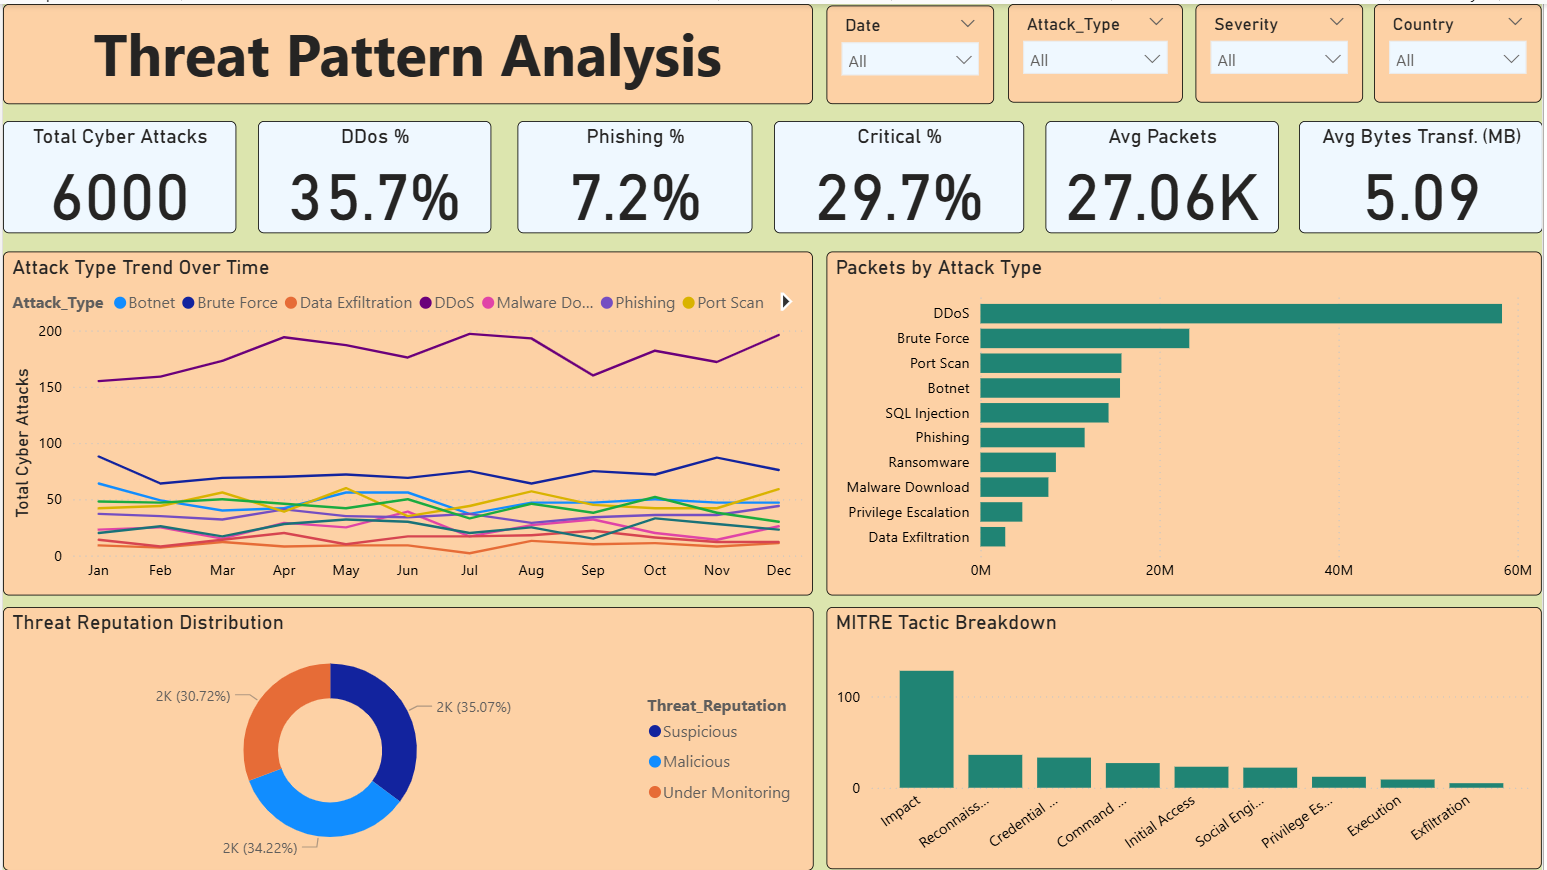

What the dashboard file says about the page in this screenshot:
{"tool":"powerbi","page":{"name":"Threat Pattern Analysis","canvas":[1280,720],"ordinal":2},"visuals":[{"type":"textbox","box":[0,0,673.5,83.3],"z":0},{"type":"slicer","fields":{"Values":["Date_Table.Date"]},"box":[685,1.4,139.3,81.9],"z":1000},{"type":"slicer","fields":{"Values":["Attack_Type.Attack_Type"]},"box":[835.8,0,145,81.9],"z":2000},{"type":"slicer","fields":{"Values":["Severity.Severity_Level"]},"box":[990.9,0,139.3,81.9],"z":3000},{"type":"slicer","fields":{"Values":["Country.Country"]},"box":[1140.2,0,139.3,81.9],"z":4000},{"type":"card","title":"Total Cyber Attacks","fields":{"Values":["Security_Events.Total Cyber Attacks"]},"box":[0,97.7,193.9,93.3],"z":5000},{"type":"card","title":"DDos %","fields":{"Values":["Security_Events.DDoS %"]},"box":[212.5,97.7,193.9,93.3],"z":6000},{"type":"card","title":"Phishing %","fields":{"Values":["Security_Events.Phishing %"]},"box":[427.9,97.7,195.3,93.3],"z":7000},{"type":"card","title":"Critical %","fields":{"Values":["Security_Events.Critical %"]},"box":[640.5,97.7,208.2,93.3],"z":8000},{"type":"card","title":"Avg Packets","fields":{"Values":["Security_Events.Avg Packets"]},"box":[867.4,97.7,193.9,93.3],"z":9000},{"type":"card","title":"Avg Bytes Transf.  (MB)","fields":{"Values":["Security_Events.Avg Bytes (MB)"]},"box":[1077,97.7,202.5,93.3],"z":10000},{"type":"lineChart","title":"Attack Type Trend Over Time","fields":{"Y":["Security_Events.Total Cyber Attacks"],"Category":["Date_Table.Month"],"Series":["Attack_Type.Attack_Type"]},"box":[0,205.4,673.5,285.8],"z":11000},{"type":"clusteredBarChart","title":"Packets by Attack Type","fields":{"Category":["Attack_Type.Attack_Type"],"Y":["Sum(Security_Events.Packets)"]},"box":[685,205.4,594.5,285.8],"z":12000},{"type":"donutChart","title":"Threat Reputation Distribution","fields":{"Category":["IP_Address.Threat_Reputation"],"Y":["Security_Events.Total Cyber Attacks"]},"box":[0,501,674,219],"z":13000},{"type":"columnChart","title":"MITRE Tactic Breakdown","fields":{"Category":["Attack_Type.MITRE_Tactic"],"Y":["Security_Events.Total Cyber Attacks"]},"box":[685,501.2,594.5,218.3],"z":14000}]}

Visuals, with their boxes in screenshot pixels (x1, y1, x2, y2), scaled from the page's 1280x720 canvas onto the 1547x870 screenshot:
textbox: region(0, 0, 814, 101)
slicer - Date_Table.Date: region(828, 2, 996, 101)
slicer - Attack_Type.Attack_Type: region(1010, 0, 1185, 99)
slicer - Severity.Severity_Level: region(1198, 0, 1366, 99)
slicer - Country.Country: region(1378, 0, 1546, 99)
"Total Cyber Attacks" card: region(0, 118, 234, 231)
"DDos %" card: region(257, 118, 491, 231)
"Phishing %" card: region(517, 118, 753, 231)
"Critical %" card: region(774, 118, 1026, 231)
"Avg Packets" card: region(1048, 118, 1283, 231)
"Avg Bytes Transf.  (MB)" card: region(1302, 118, 1546, 231)
"Attack Type Trend Over Time" lineChart: region(0, 248, 814, 594)
"Packets by Attack Type" clusteredBarChart: region(828, 248, 1546, 594)
"Threat Reputation Distribution" donutChart: region(0, 605, 815, 869)
"MITRE Tactic Breakdown" columnChart: region(828, 606, 1546, 869)
